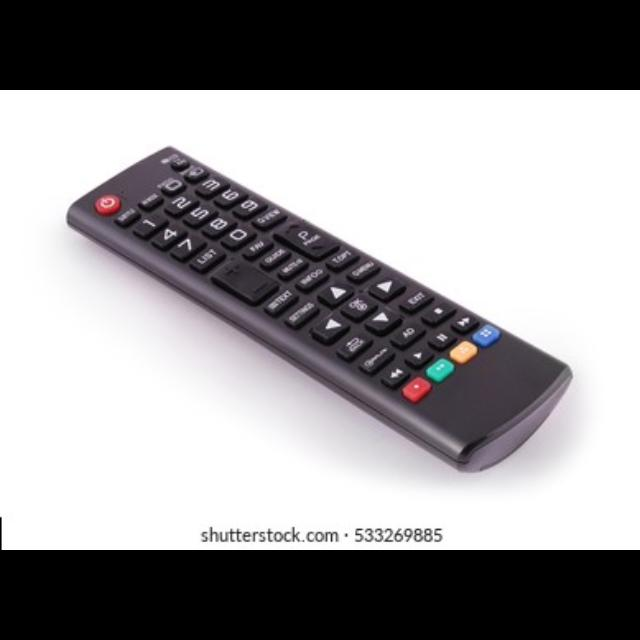TV-Remote-Control: (66, 146, 574, 475)
